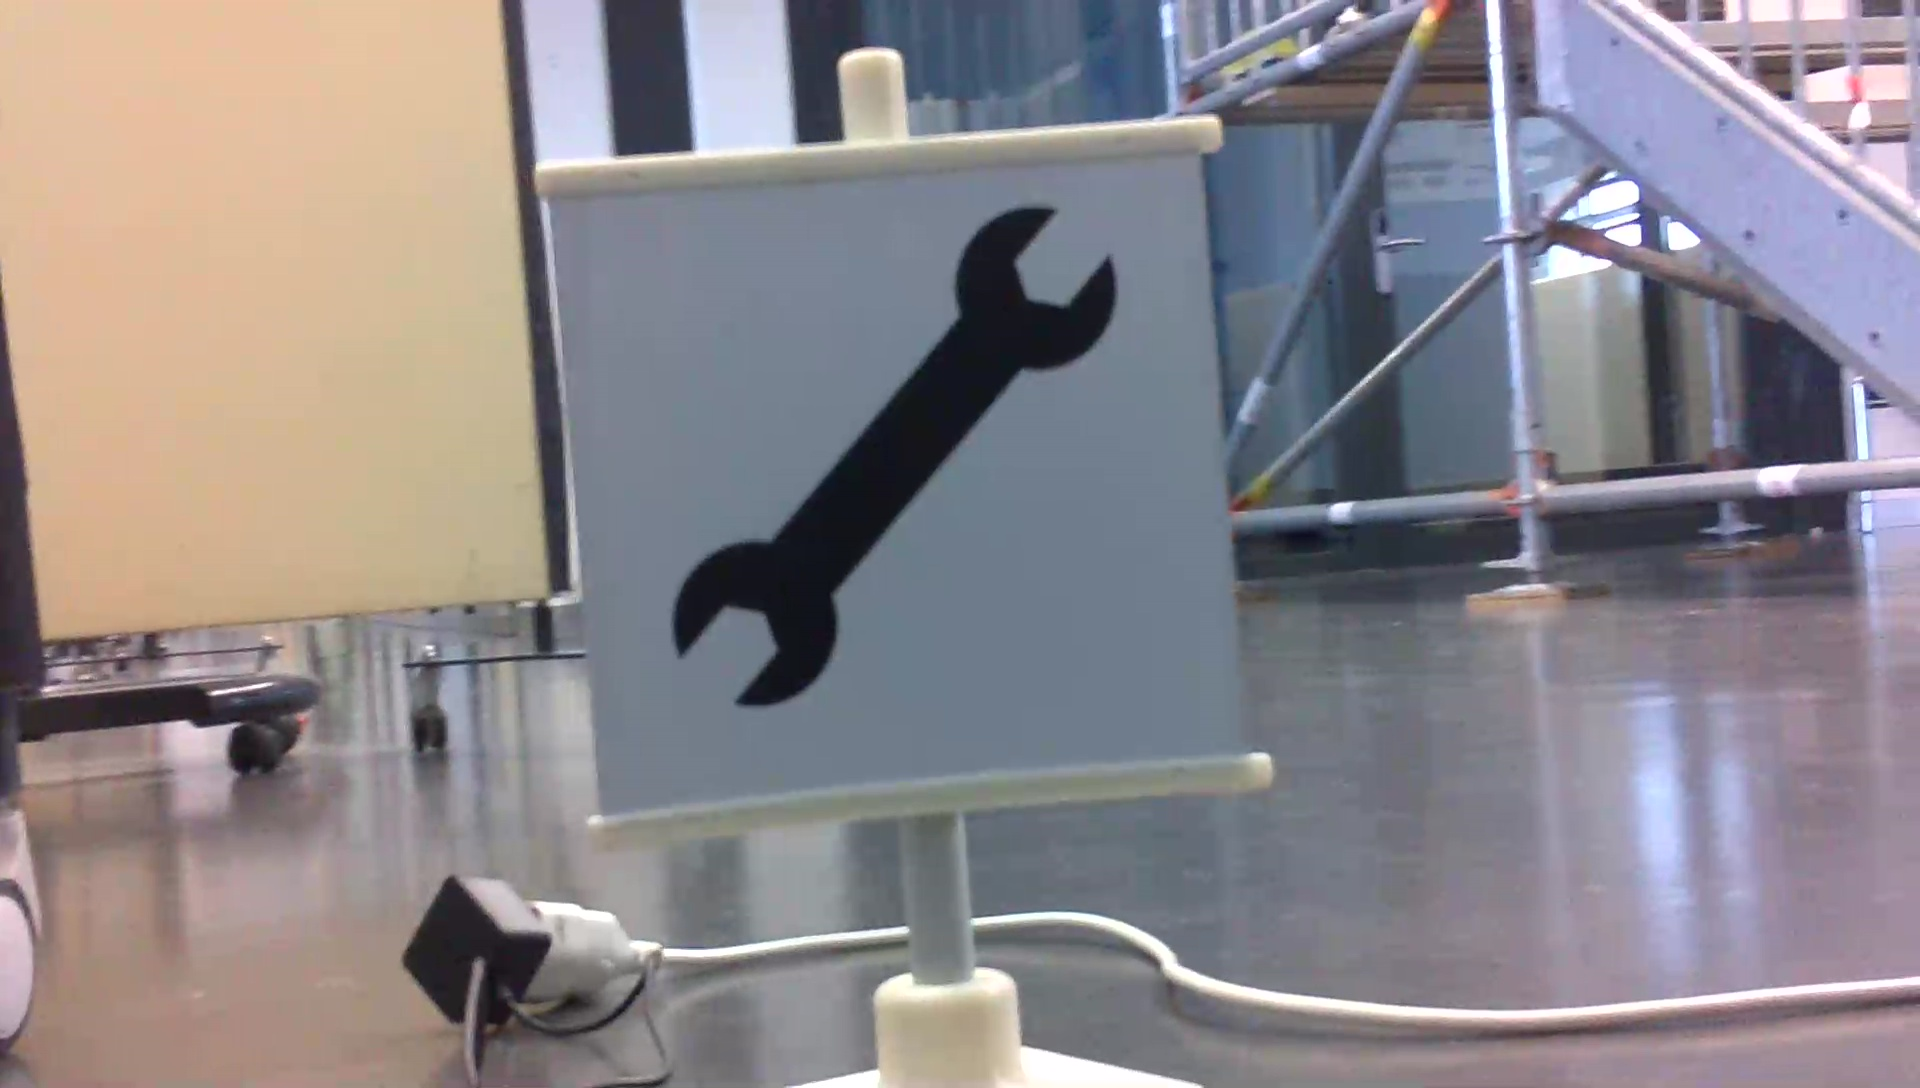wrench: (662, 198, 1125, 719)
